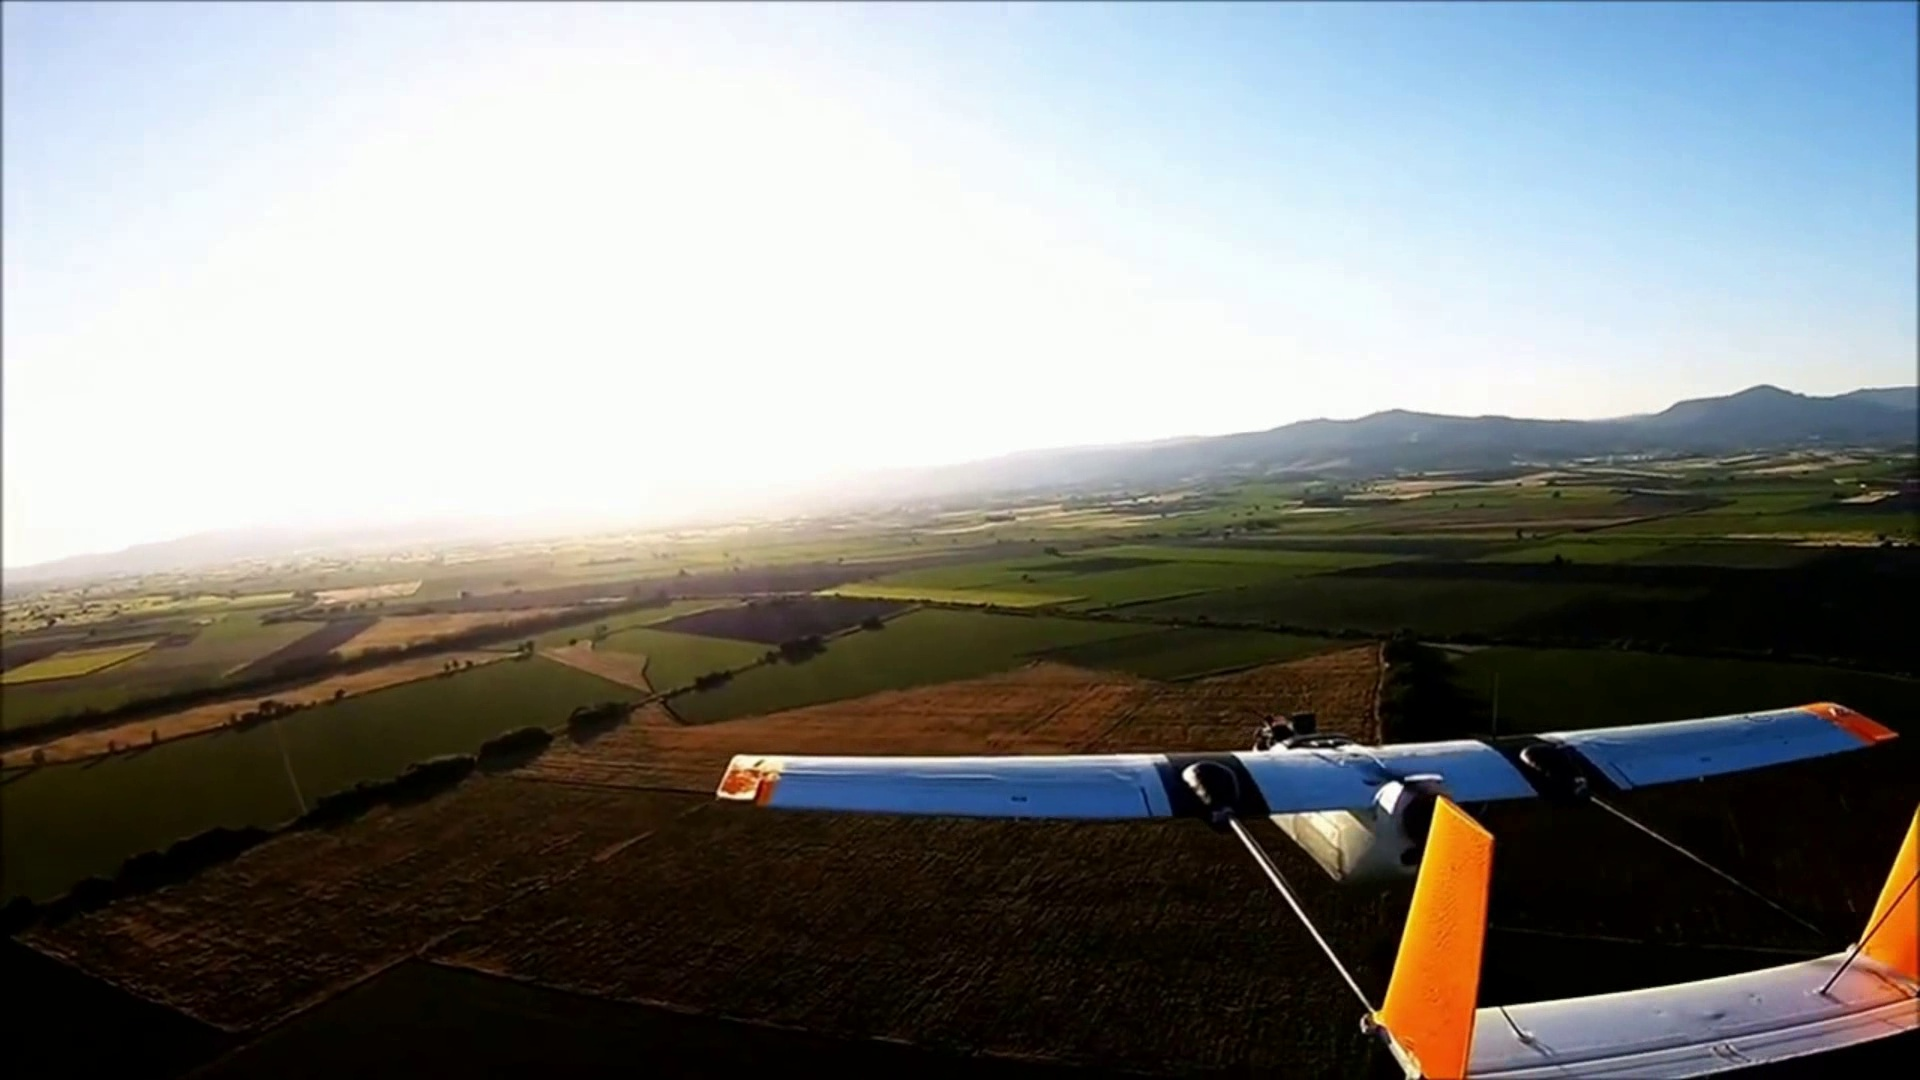airplane: (717, 697, 1916, 1064)
